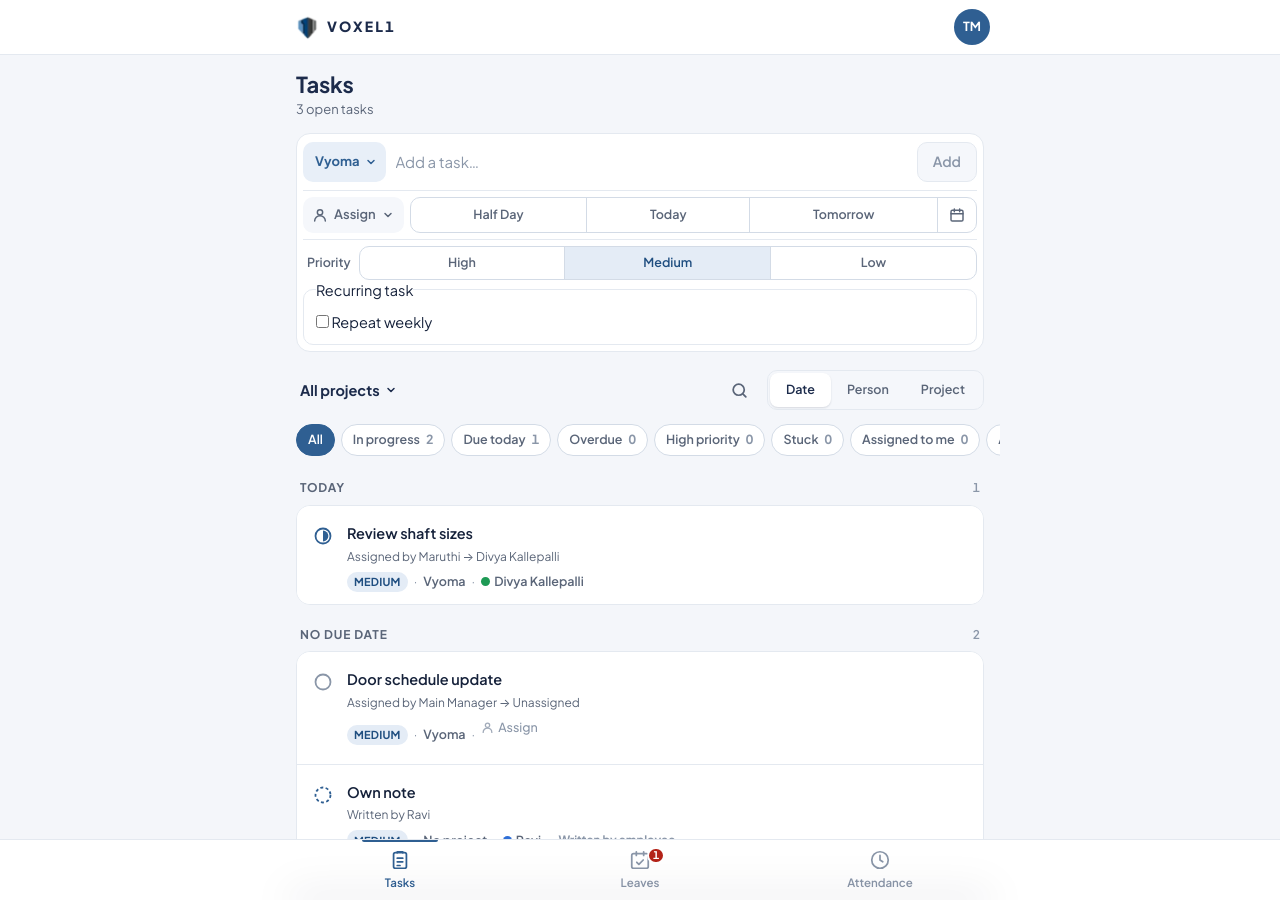
it: manager app › keeps a pick list open while the page only scrolls a little or the address bar resizes it
Click the button with aria-label "Project:".
click(344, 162)  # box [303,142,386,182]
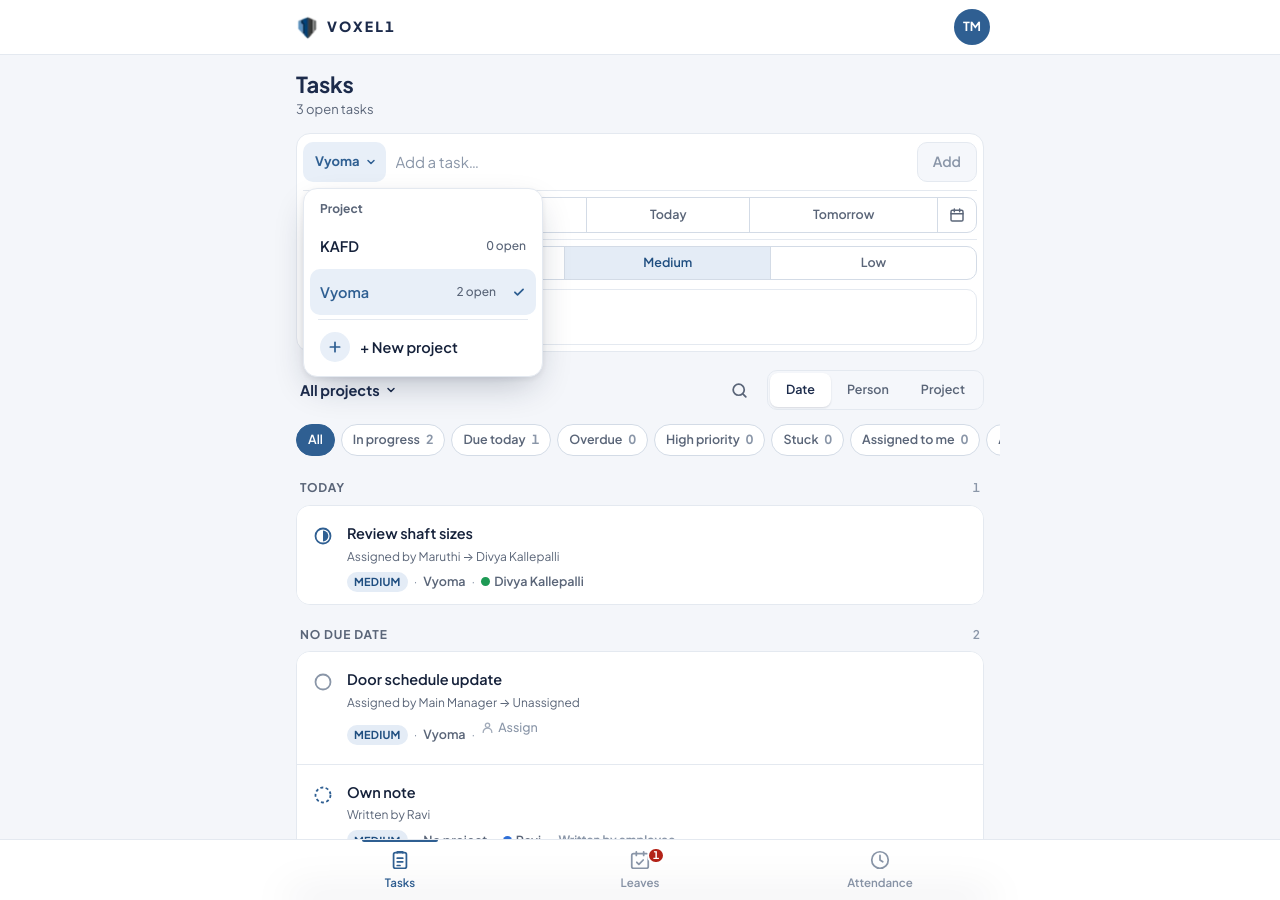
Check: the option "KAFD 0 open" is shown, box [310,223,536,269]
